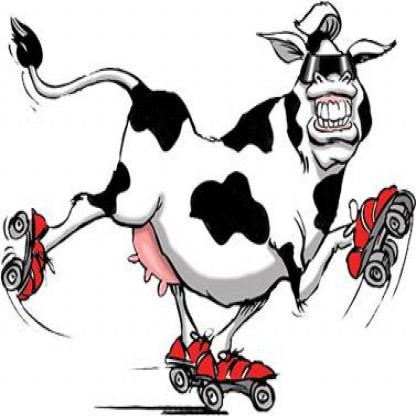cow: (20, 1, 395, 390)
